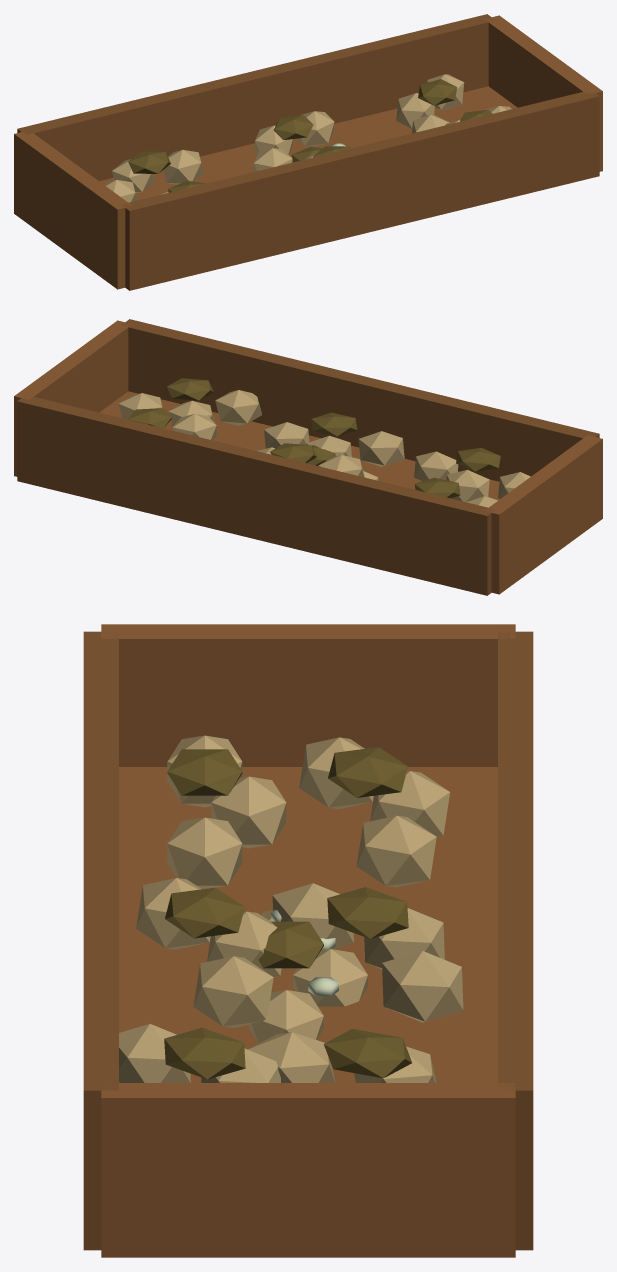
Rendered from Meat_Insect.fbx.
3 renders of one model, top to bottom at view 1: azimuth 30°, elevation 25°; view 2: azimuth 150°, elevation 25°; view 3: azimuth 270°, elevation 25°, orthographic. The views are drawn at different scales.
Parts seen in each view (by area): view 1: Meat_Insect__Stack; view 2: Meat_Insect__Stack, Meat_Insect; view 3: Meat_Insect__Stack, Meat_Insect.
Boxes of the visible parts, <box> form: Meat_Insect__Stack: <box>14,14,602,290</box>; Meat_Insect__Stack: <box>14,319,602,595</box>; Meat_Insect: <box>257,445,378,480</box>; Meat_Insect__Stack: <box>83,624,533,1257</box>; Meat_Insect: <box>249,910,367,1042</box>.
Size of the model in its own units: 0.2544 by 0.04 by 0.102.
